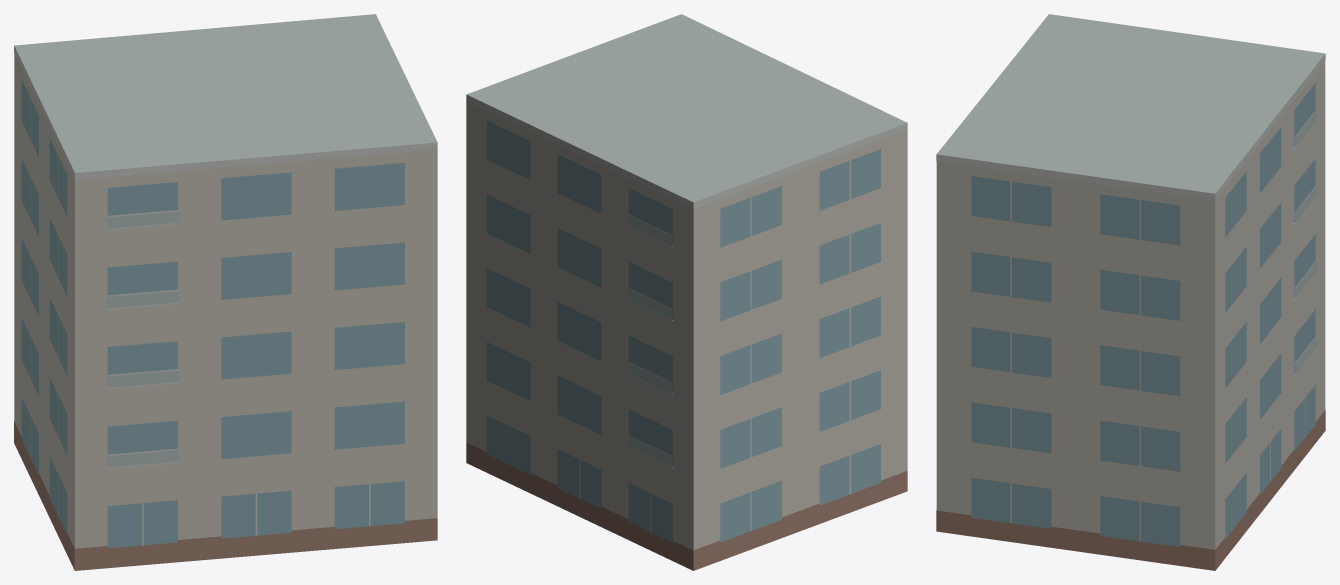
The model's file is survey-upis-32671919.glb.
The picture shows the model from 3 angles, left to right: view 1: azimuth 30°, elevation 25°; view 2: azimuth 150°, elevation 25°; view 3: azimuth 270°, elevation 25°; orthographic projection. The views are drawn at different scales.
Parts seen in each view (by area): view 1: survey-upis-32671919.tmp; view 2: survey-upis-32671919.tmp; view 3: survey-upis-32671919.tmp.
Boxes of the visible parts, <box> form: survey-upis-32671919.tmp: <box>14,14,437,570</box>; survey-upis-32671919.tmp: <box>466,14,907,570</box>; survey-upis-32671919.tmp: <box>936,14,1325,570</box>.
Bounding box in the file's own units: 13.81 × 13.5 × 12.63.
